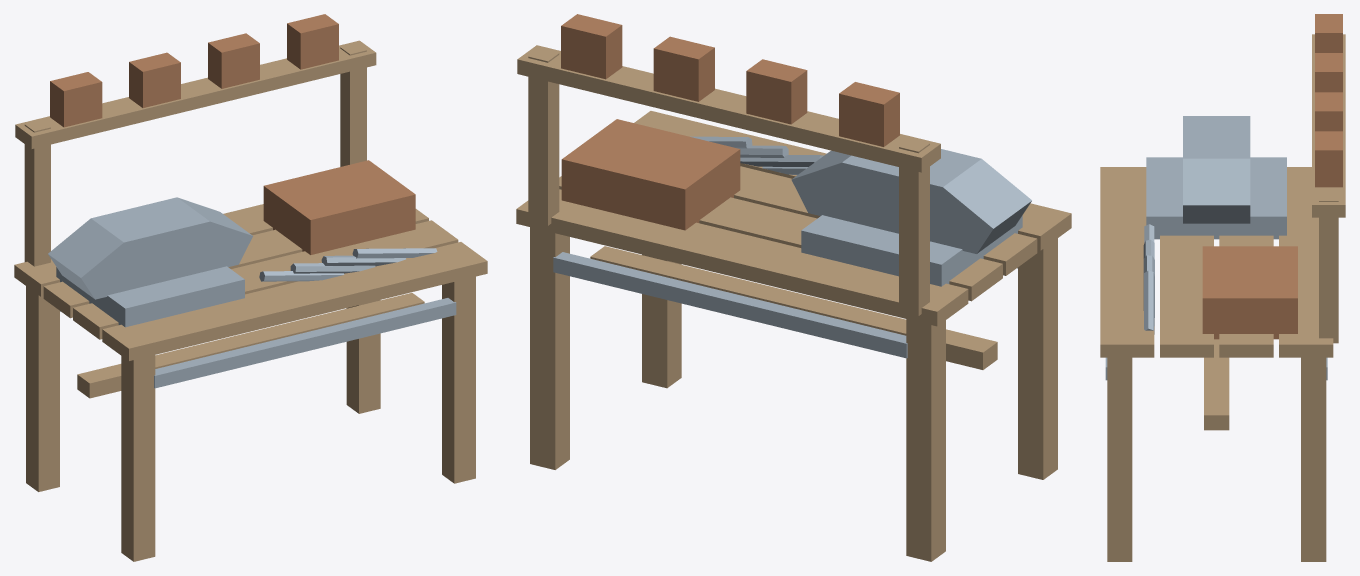
File: wipe-day-survival-island-repair-bench-6d198c17__27467.glb
The picture shows the model from 3 angles, left to right: view 1: azimuth 30°, elevation 25°; view 2: azimuth 150°, elevation 25°; view 3: azimuth 270°, elevation 25°; orthographic projection. The views are drawn at different scales.
Visible parts, largest first — view 1: repair-bench; view 2: repair-bench; view 3: repair-bench.
Part boxes in pixels (left/top/right/bottom): repair-bench: left=14, top=14, right=487, bottom=561; repair-bench: left=516, top=14, right=1071, bottom=561; repair-bench: left=1100, top=14, right=1345, bottom=561.
Size of the model in its own units: 1.53 by 1.55 by 0.875.
